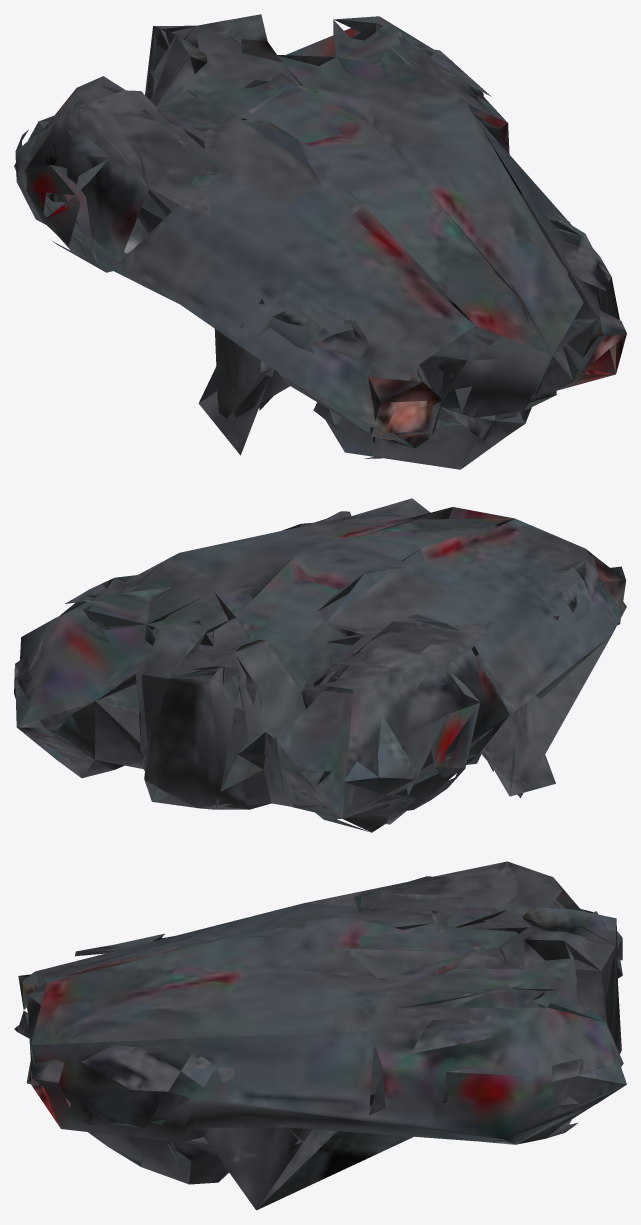
Rendered from enemy_turret_1364897078_lod0.glb.
3 views of the same model, one above another, from view 1: azimuth 30°, elevation 25°; view 2: azimuth 150°, elevation 25°; view 3: azimuth 270°, elevation 25° (orthographic). The views are drawn at different scales.
Bounding box in the file's own units: 4.24 × 2.57 × 5.91.
1 material, 1 textured.
